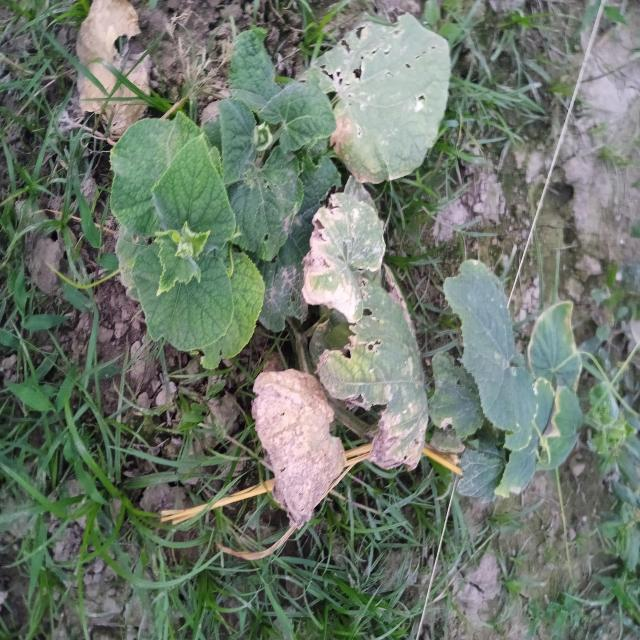cucumber_bacterial: (303, 25, 482, 184), (296, 185, 452, 322), (314, 324, 436, 482), (246, 379, 346, 527), (68, 0, 168, 135)
